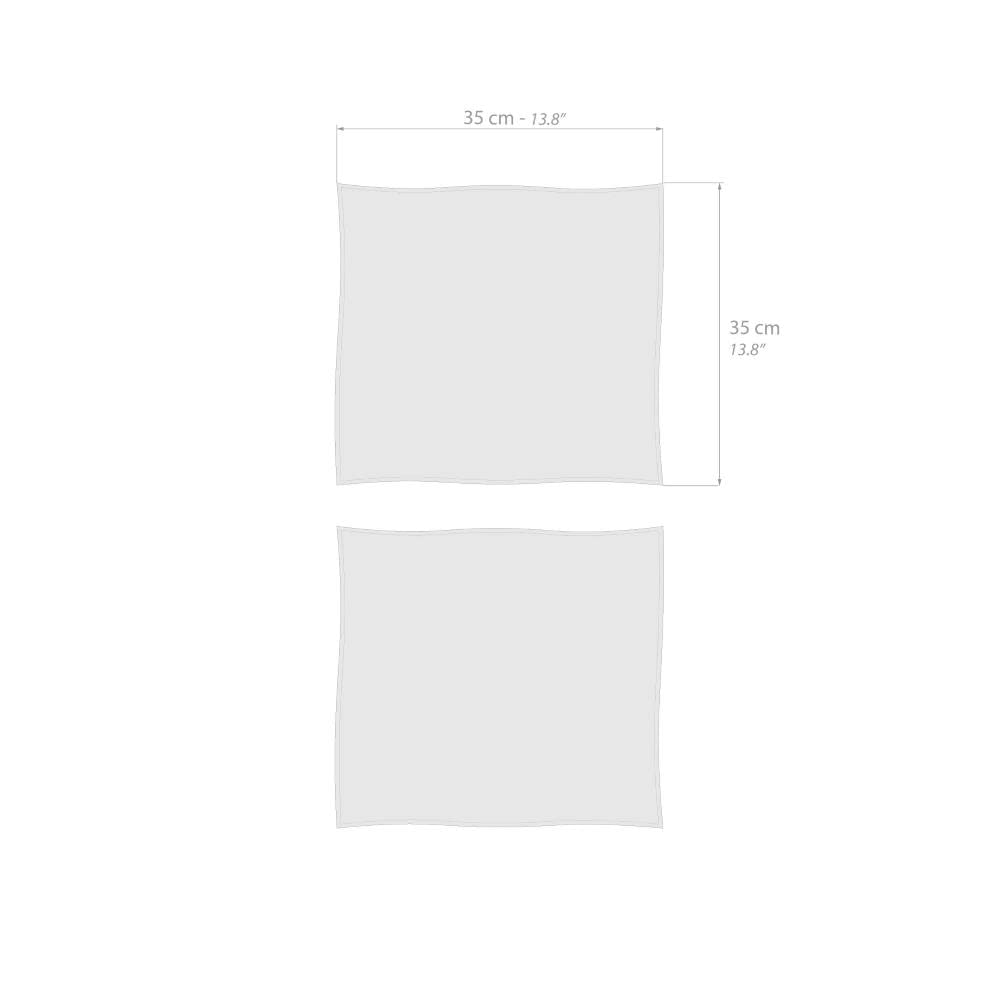-: (516, 105, 525, 136)
13.8: (532, 109, 567, 126), (730, 343, 767, 357)
35.cm: (464, 109, 567, 126)
35cm: (729, 320, 780, 336)
